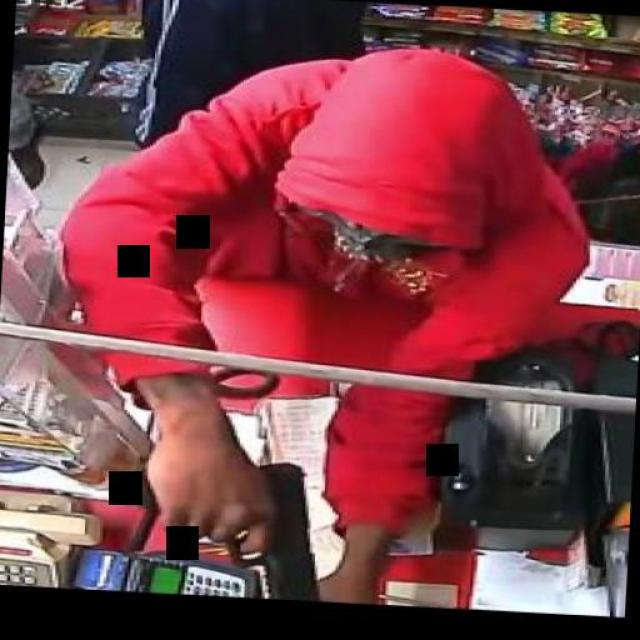gun: (121, 450, 324, 601)
